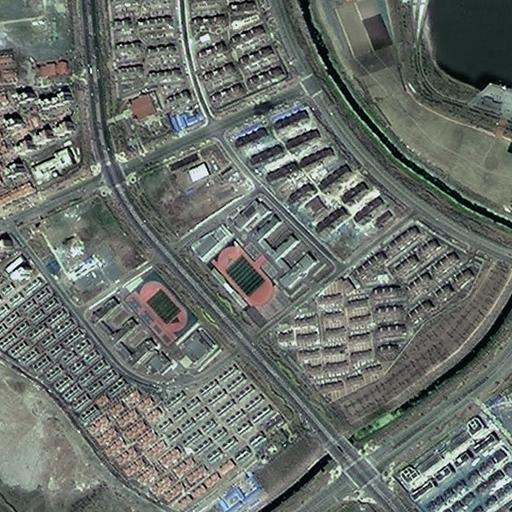school: (184, 192, 338, 331), (83, 266, 223, 384)
